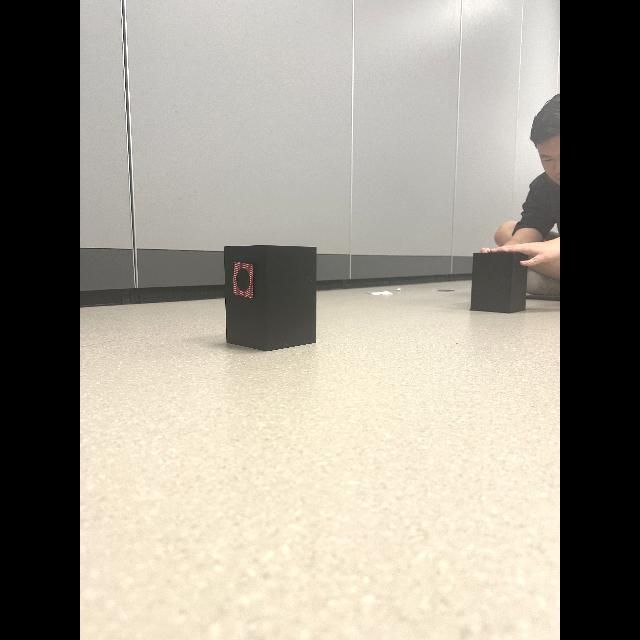CIRCLE: (236, 268, 250, 291)
